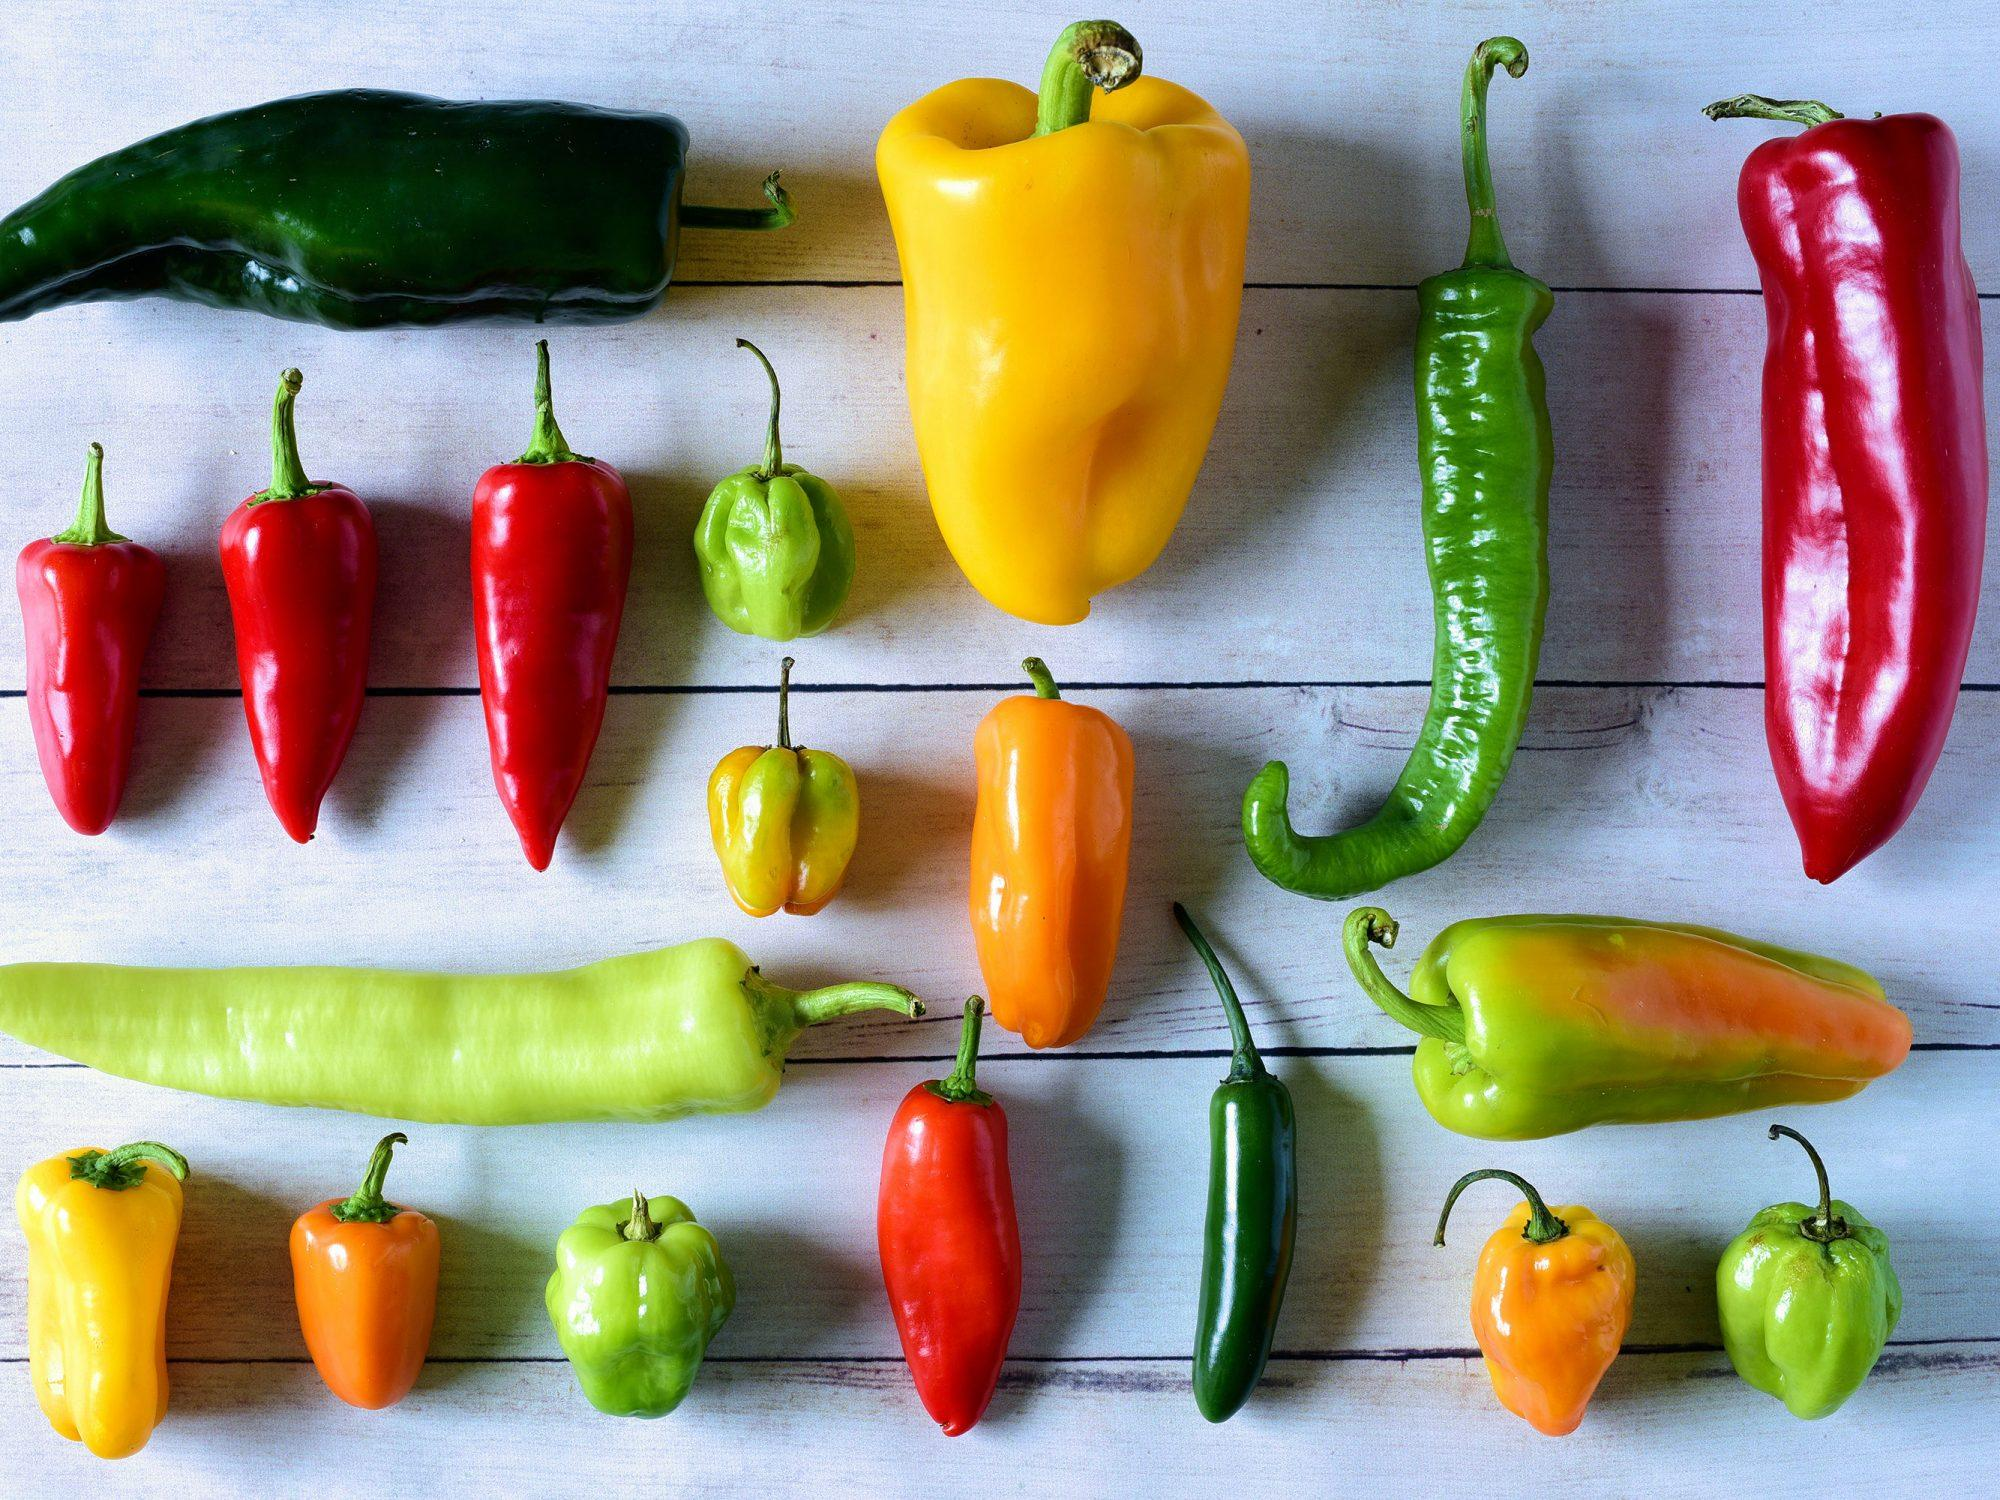chilli pepper: (1239, 33, 1556, 900), (872, 17, 1250, 626), (1701, 91, 1987, 884), (0, 85, 795, 331), (2, 934, 924, 1127), (1340, 903, 1913, 1141), (468, 337, 635, 871), (216, 366, 378, 843), (1169, 900, 1298, 1421), (967, 654, 1135, 1049), (876, 993, 1022, 1435), (14, 438, 165, 837), (1713, 1120, 1902, 1420), (16, 1139, 187, 1459), (1433, 1166, 1635, 1435), (691, 336, 855, 641), (543, 1186, 734, 1418), (287, 1130, 441, 1409), (706, 655, 858, 917)
